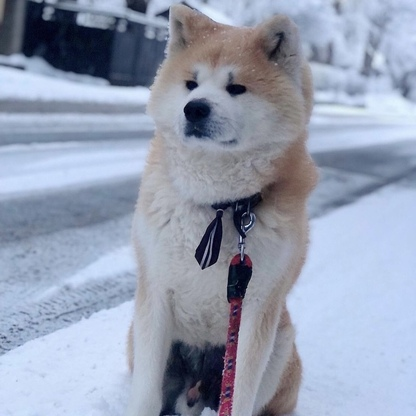akita: (117, 1, 326, 416)
